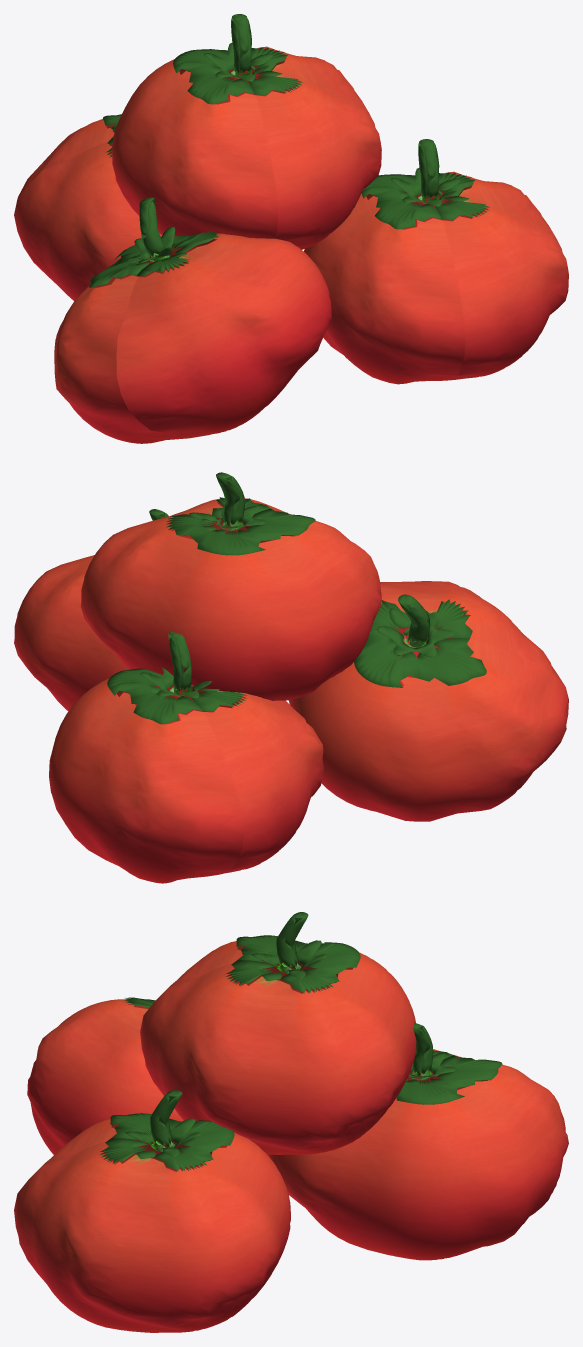
File: TonatoGoup.fbx
The picture shows the model from 3 angles, top to bottom: view 1: azimuth 30°, elevation 25°; view 2: azimuth 150°, elevation 25°; view 3: azimuth 270°, elevation 25°; orthographic projection. The views are drawn at different scales.
Parts seen in each view (by area): view 1: red tomato, red tomato .003, red tomato .001, red tomato .002, green branch .003, green branch .001, green branch; view 2: red tomato .002, red tomato .003, red tomato, red tomato .001, green branch, green branch .003, green branch .002; view 3: red tomato .001, red tomato .003, red tomato .002, red tomato, green branch .003, green branch .001, green branch .002.
Part boxes in pixels (box(x1,y1,x2,y2)): red tomato: box(54, 233, 331, 443); red tomato .003: box(112, 46, 381, 252); red tomato .001: box(304, 171, 568, 384); red tomato .002: box(14, 119, 161, 301); green branch .003: box(173, 14, 302, 104); green branch .001: box(361, 139, 489, 229); green branch: box(89, 197, 219, 287); red tomato .002: box(49, 678, 323, 883); red tomato .003: box(80, 498, 381, 708); red tomato: box(288, 581, 568, 821); red tomato .001: box(14, 555, 128, 711); green branch: box(354, 594, 486, 687); green branch .003: box(166, 472, 315, 555); green branch .002: box(107, 631, 246, 724); red tomato .001: box(14, 1119, 290, 1332); red tomato .003: box(140, 941, 416, 1154); red tomato .002: box(268, 1049, 568, 1260); red tomato: box(27, 999, 268, 1155); green branch .003: box(225, 912, 360, 992); green branch .001: box(99, 1090, 234, 1171); green branch .002: box(396, 1023, 502, 1104).
Size of the model in its own units: 479 by 308 by 453.
Materials: 8 (4 with a texture image).
